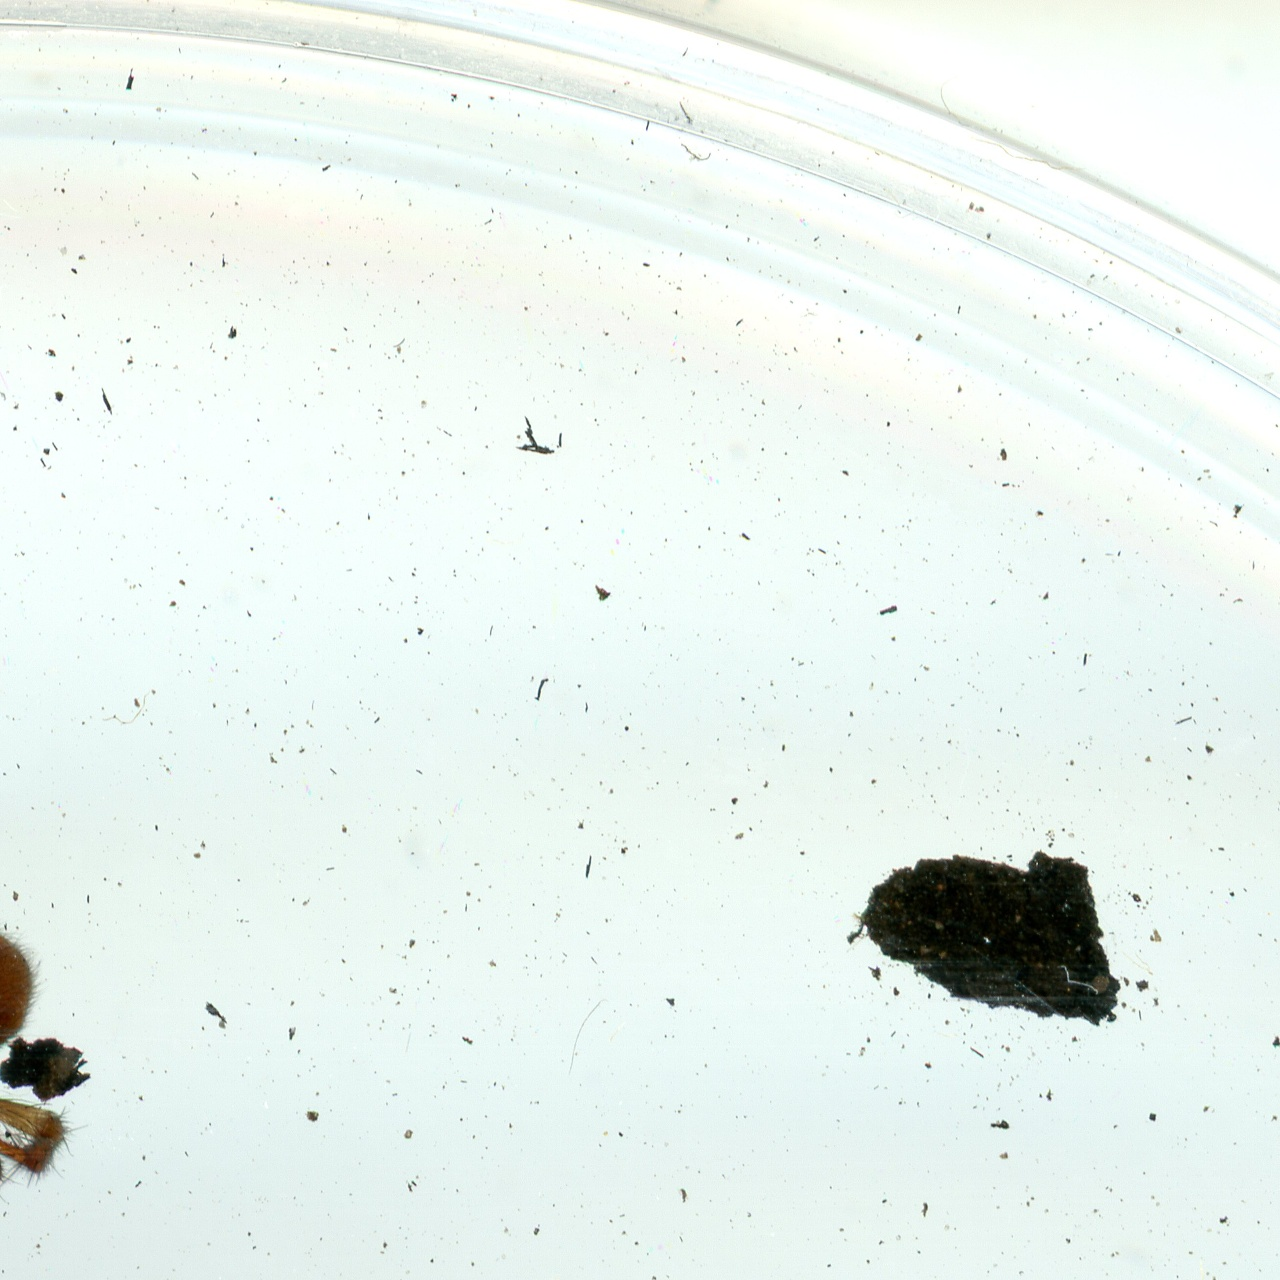arthropod: (0, 796, 77, 1280)
